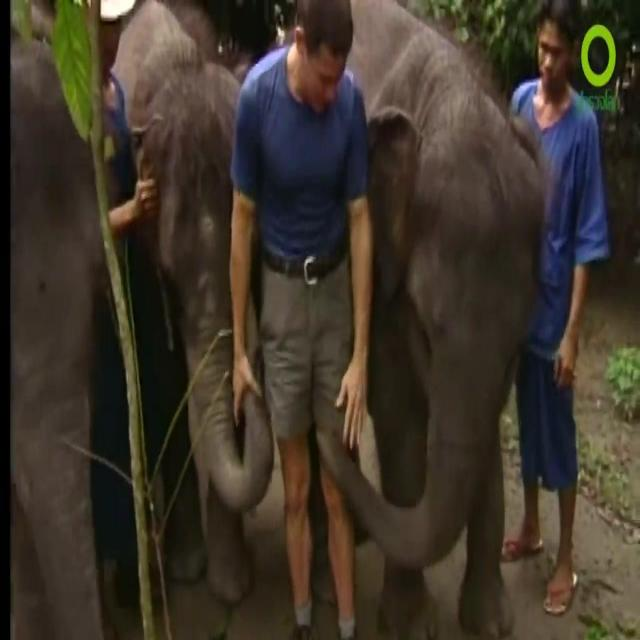Elephant: (350, 17, 529, 620), (128, 35, 271, 513), (10, 79, 117, 640)
